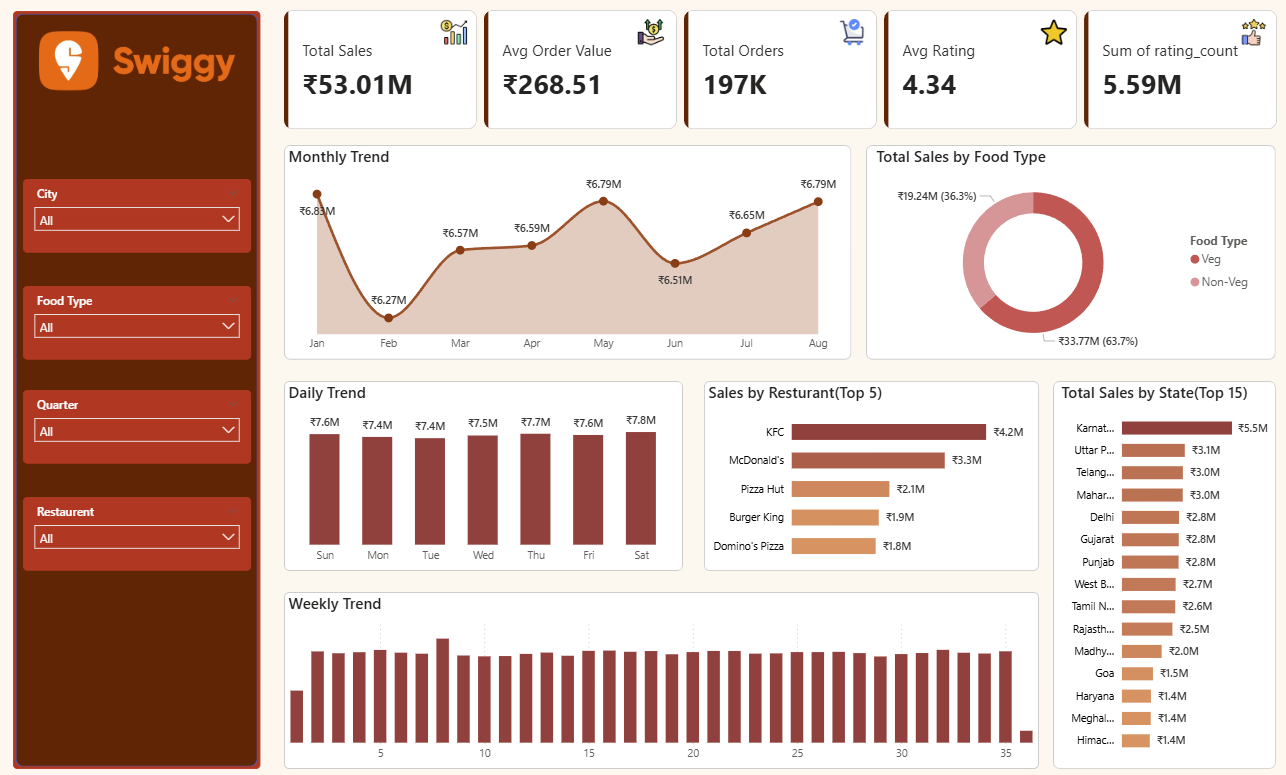

This screenshot's page, from the dashboard's own definition file:
{"tool":"powerbi","page":{"name":"Swiggy_Report","canvas":[1500,900],"ordinal":0},"visuals":[{"type":"shape","box":[40.2,17.8,281.8,864.2],"z":0},{"type":"cardVisual","fields":{"Data":["swiggy_project fact_orders.Total Sales","swiggy_project fact_orders.Avg Order Value","swiggy_project fact_orders.Total Orders","Avg(swiggy_project fact_orders.rating)","Sum(swiggy_project fact_orders.rating_count)"]},"box":[331.7,0,1168.3,171],"z":1000},{"type":"image","box":[525.8,27.4,33.4,29.8],"z":2000},{"type":"image","box":[750,27.4,33.4,29.8],"z":3000},{"type":"image","box":[978.9,27.4,33.4,29.8],"z":4000},{"type":"image","box":[1209.1,27.4,33.4,29.8],"z":5000},{"type":"image","box":[1436.8,27.4,33.4,29.8],"z":6000},{"type":"image","box":[51.3,27.4,259.9,95.4],"z":7000},{"type":"shape","box":[348.7,171.4,646.6,244.7],"z":8000},{"type":"areaChart","title":"Monthly Trend","fields":{"Category":["swiggy_project dim_date.Month"],"Y":["swiggy_project fact_orders.Total Sales"]},"box":[348.7,171.4,646.6,244.7],"z":9000},{"type":"shape","box":[1011.8,171.4,466.9,244.7],"z":10000},{"type":"donutChart","fields":{"Category":["swiggy_project dim_dish.Food Type"],"Y":["swiggy_project fact_orders.Total Sales"]},"box":[1019,171,451.4,245.1],"z":11000},{"type":"shape","box":[348.8,440,454.8,216.6],"z":12000},{"type":"columnChart","title":"Daily Trend","fields":{"Category":["swiggy_project dim_date.Day"],"Y":["swiggy_project fact_orders.Total Sales"]},"box":[348.8,440,454.8,216.6],"z":13000},{"type":"shape","box":[827.5,440,381.8,216.6],"z":14000},{"type":"barChart","title":"Sales by Resturant(Top 5)","fields":{"Category":["swiggy_project dim_restaurant.restaurant_name"],"Y":["swiggy_project fact_orders.Total Sales"]},"box":[827.5,440,381.8,216.6],"z":15000},{"type":"shape","box":[1225.3,440,254.2,442.2],"z":16000},{"type":"barChart","title":"Total Sales by State(Top 15)","fields":{"Category":["swiggy_project dim_location (1).state"],"Y":["swiggy_project fact_orders.Total Sales"]},"box":[1229.9,440,245.1,433.1],"z":17000},{"type":"shape","box":[348.8,680.5,860.6,201.8],"z":18000},{"type":"columnChart","title":"Weekly Trend","fields":{"Category":["swiggy_project dim_date.Week Number"],"Y":["swiggy_project fact_orders.Total Sales"]},"box":[348.8,680.5,860.6,201.8],"z":19000},{"type":"slicer","fields":{"Values":["swiggy_project dim_location (1).city"]},"box":[51.3,209.7,259.9,84.3],"z":20000},{"type":"slicer","fields":{"Values":["swiggy_project dim_dish.Food Type"]},"box":[51.3,331.7,259.9,84.3],"z":20001},{"type":"slicer","fields":{"Values":["swiggy_project dim_date.Quarter"]},"box":[51.3,450.2,259.9,84.3],"z":20002},{"type":"slicer","fields":{"Values":["swiggy_project dim_location (1).city"]},"box":[51.3,572.2,259.9,84.3],"z":20003}]}

Visuals, with their boxes in screenshot pixels (x1, y1, x2, y2), scaled from the page's 1500x900 canvas onto the 1286x775 screenshot:
shape: [34, 15, 276, 760]
cardVisual - swiggy_project fact_orders.Total Sales x swiggy_project fact_orders.Avg Order Value: [284, 0, 1285, 147]
image: [451, 24, 479, 49]
image: [643, 24, 672, 49]
image: [839, 24, 868, 49]
image: [1037, 24, 1065, 49]
image: [1232, 24, 1260, 49]
image: [44, 24, 267, 106]
shape: [299, 148, 853, 358]
"Monthly Trend" areaChart: [299, 148, 853, 358]
shape: [867, 148, 1268, 358]
donutChart - swiggy_project dim_dish.Food Type x swiggy_project fact_orders.Total Sales: [874, 147, 1261, 358]
shape: [299, 379, 689, 565]
"Daily Trend" columnChart: [299, 379, 689, 565]
shape: [709, 379, 1037, 565]
"Sales by Resturant(Top 5)" barChart: [709, 379, 1037, 565]
shape: [1050, 379, 1268, 760]
"Total Sales by State(Top 15)" barChart: [1054, 379, 1265, 752]
shape: [299, 586, 1037, 760]
"Weekly Trend" columnChart: [299, 586, 1037, 760]
slicer - swiggy_project dim_location (1).city: [44, 181, 267, 253]
slicer - swiggy_project dim_dish.Food Type: [44, 286, 267, 358]
slicer - swiggy_project dim_date.Quarter: [44, 388, 267, 460]
slicer - swiggy_project dim_location (1).city: [44, 493, 267, 565]
